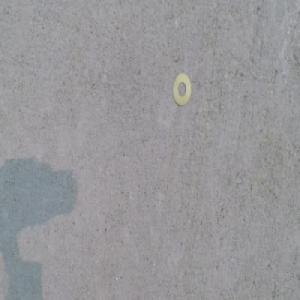Washer: (172, 74, 191, 105)
